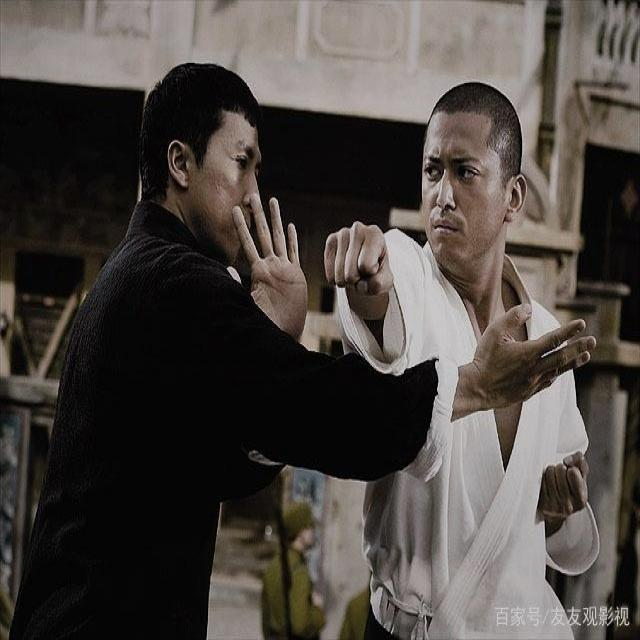fight: (10, 67, 596, 639)
